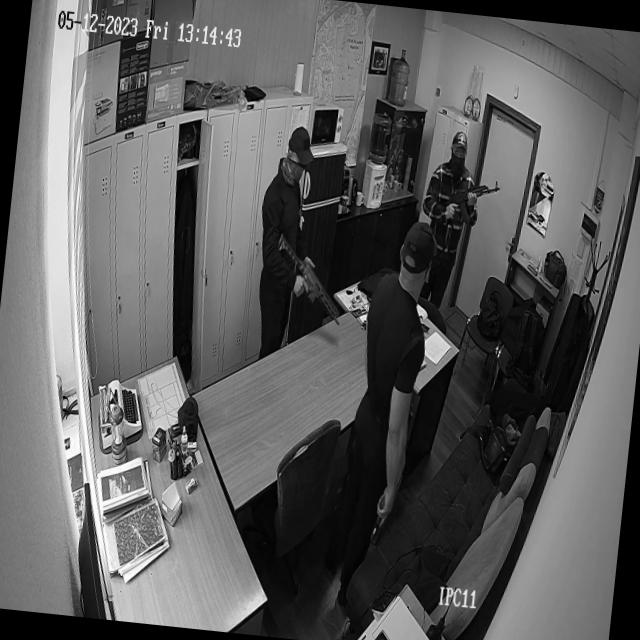gun: (270, 228, 349, 328), (440, 174, 500, 216), (369, 489, 390, 548)
person with a gun: (340, 218, 434, 580), (249, 122, 325, 347), (416, 127, 480, 310)
